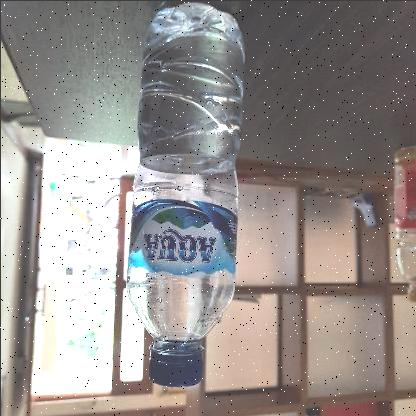Plastic Bottle: (124, 0, 246, 388)
